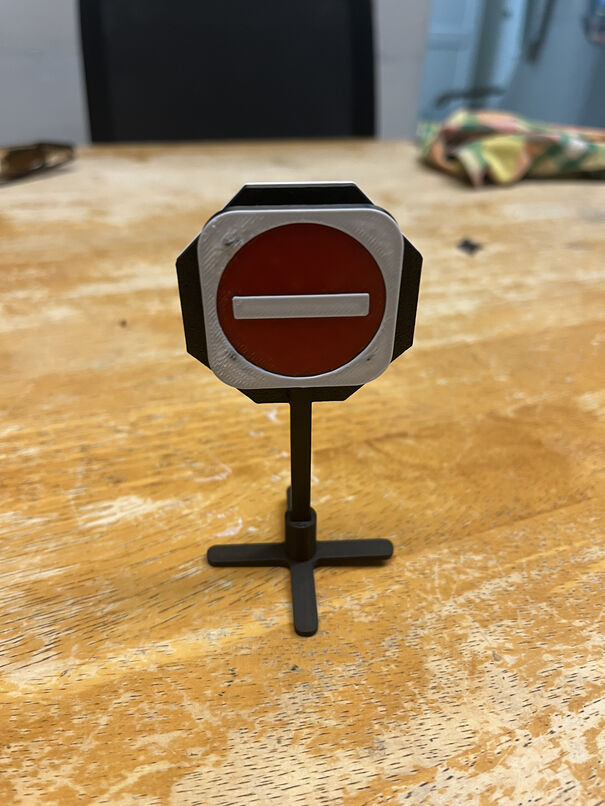sign_noentry: (197, 206, 402, 393)
